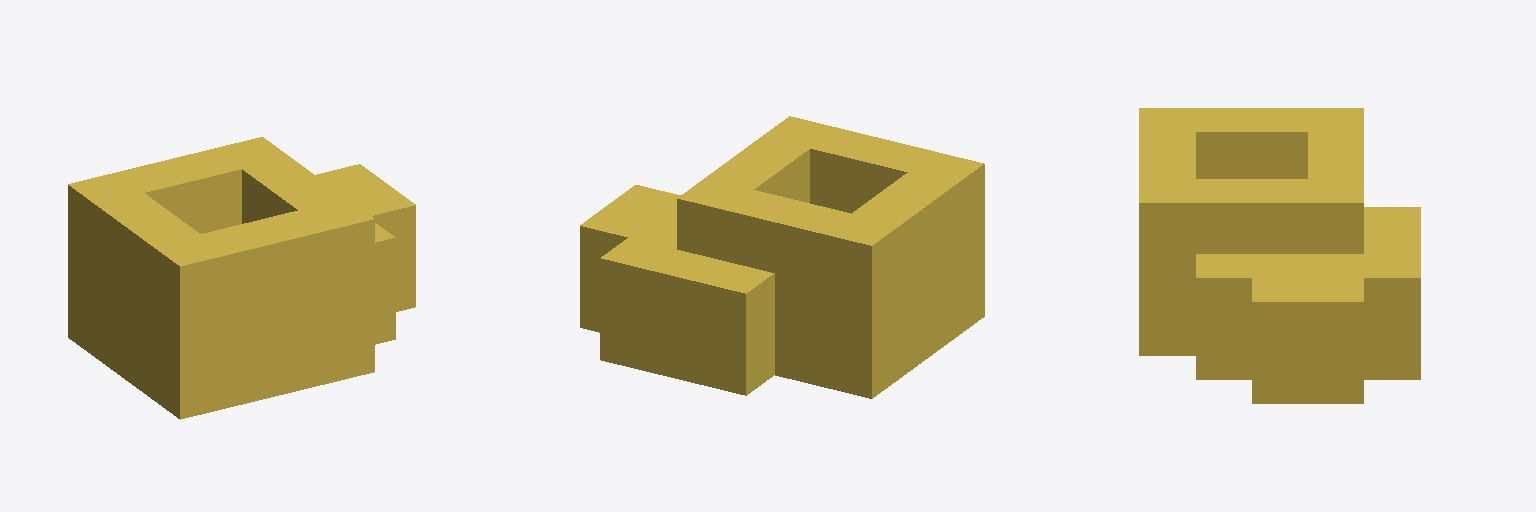
Rendered from sample2.obj.
3 views of the same model, side by side, from view 1: azimuth 30°, elevation 25°; view 2: azimuth 150°, elevation 25°; view 3: azimuth 270°, elevation 25° (orthographic).
Visible parts, largest first — view 1: Box001; view 2: Box001; view 3: Box001.
Part boxes in pixels (x1,y1,x2,y2): Box001: (68, 137, 415, 419); Box001: (580, 116, 984, 398); Box001: (1139, 108, 1420, 403).
Bounding box in the file's own units: 6 × 3 × 5.